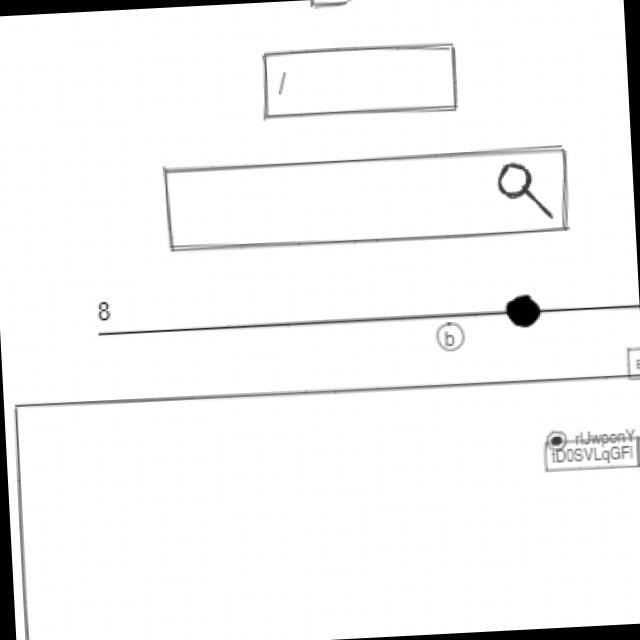button: (621, 341, 640, 384)
checkbox: (305, 0, 405, 11)
container: (6, 366, 640, 640)
icon-button: (433, 322, 468, 354)
input: (256, 35, 462, 124)
radio: (545, 422, 638, 450)
search: (160, 141, 574, 258)
select: (540, 430, 640, 473)
slider: (113, 286, 640, 348)
